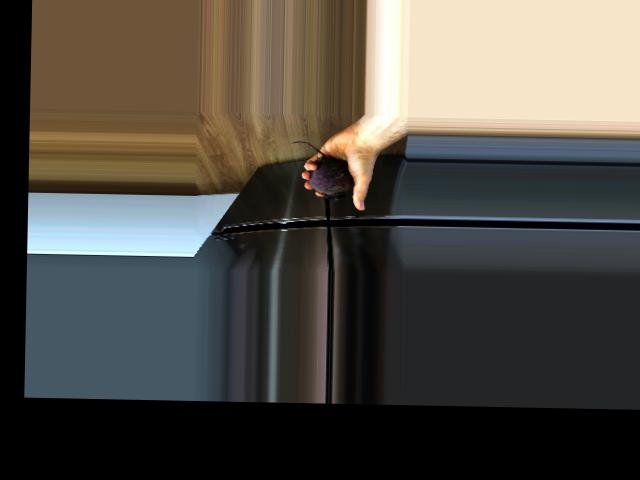beet: (289, 141, 354, 200)
